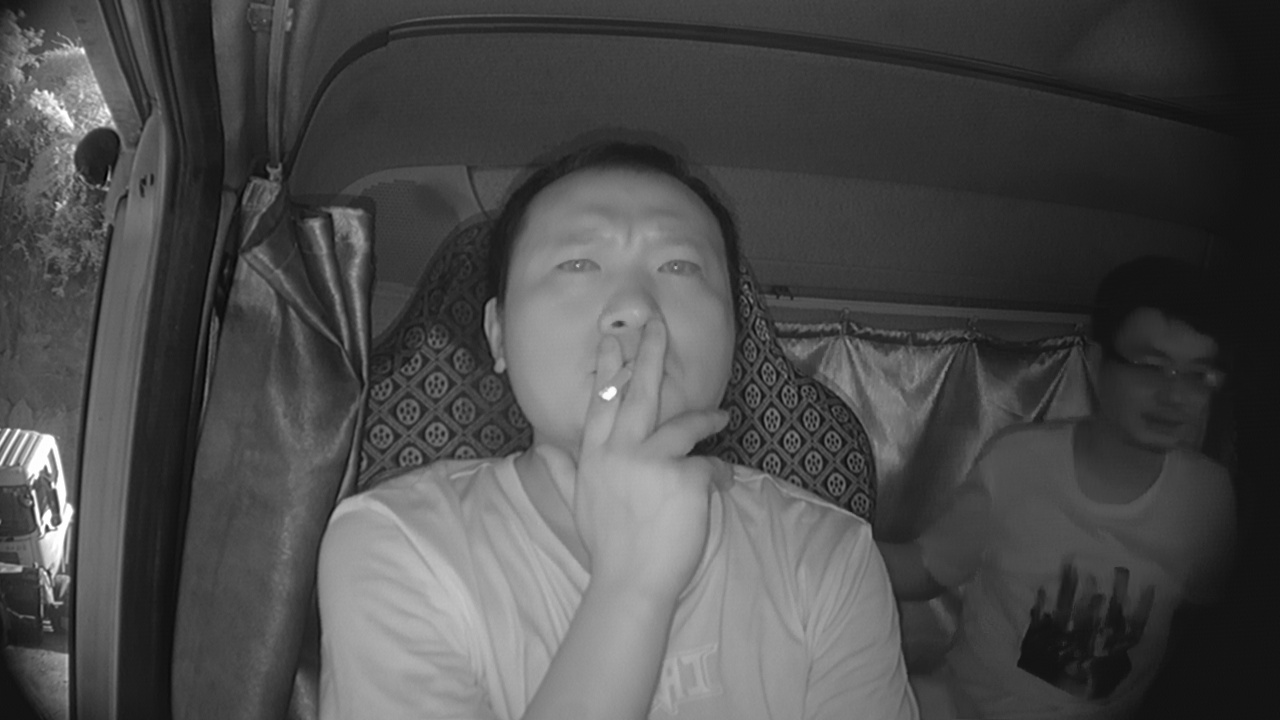hand: (573, 328, 737, 513)
